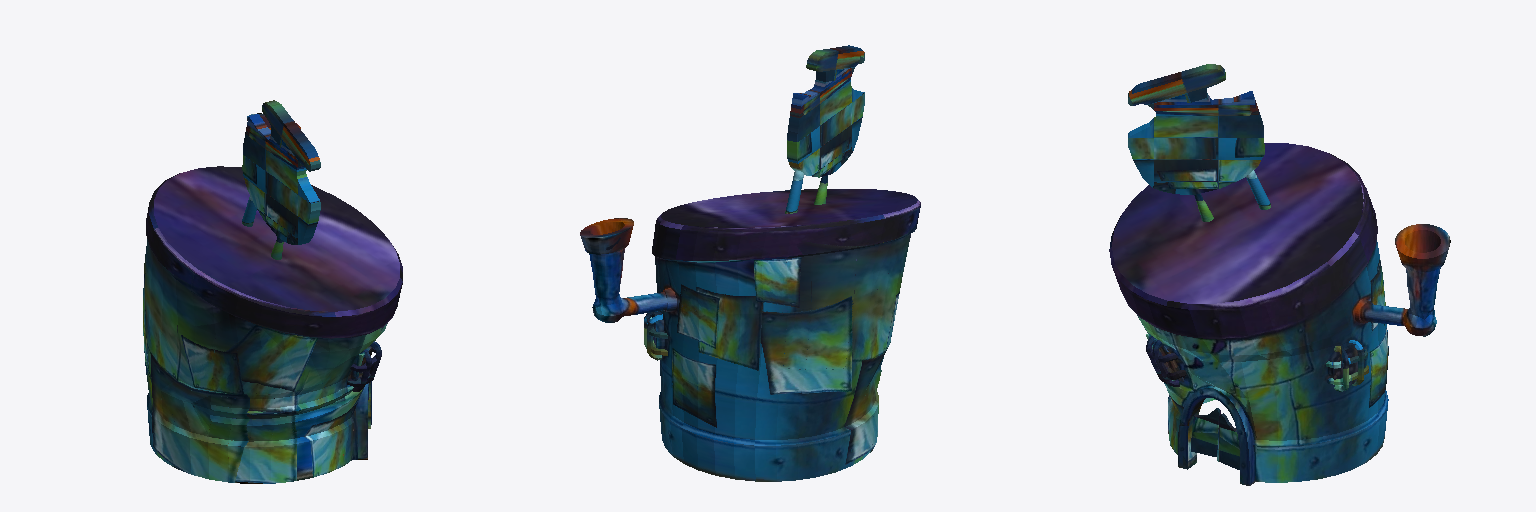
3 views of the same model, side by side, from view 1: azimuth 30°, elevation 25°; view 2: azimuth 150°, elevation 25°; view 3: azimuth 270°, elevation 25° (orthographic).
Parts seen in each view (by area): view 1: Circle, Circle_001; view 2: Circle, Circle_001; view 3: Circle, Circle_001.
Part boxes in pixels (left/top/right/bottom): Circle: left=143, top=113, right=402, bottom=483; Circle_001: left=242, top=100, right=381, bottom=391; Circle: left=580, top=189, right=920, bottom=481; Circle_001: left=644, top=45, right=864, bottom=360; Circle: left=1109, top=143, right=1450, bottom=485; Circle_001: left=1128, top=64, right=1368, bottom=469.
Size of the model in its own units: 11.82 by 18.14 by 15.48.
Materials: 1 (1 with a texture image).